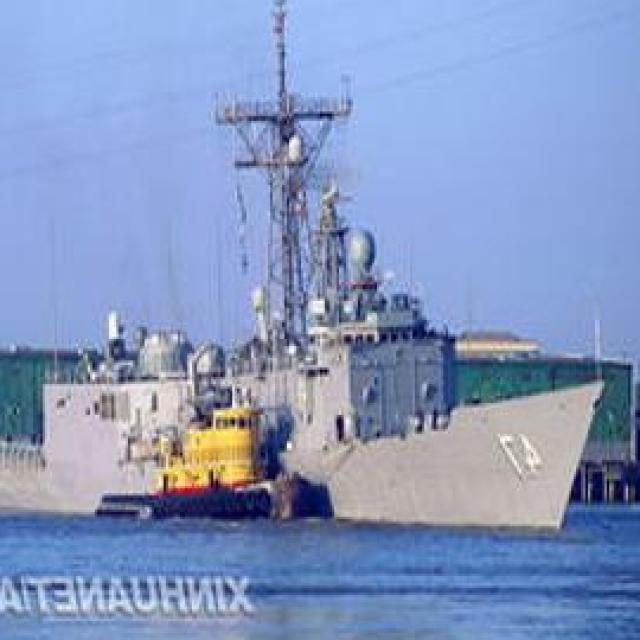navalvessels: (0, 80, 602, 524), (97, 393, 319, 523)
